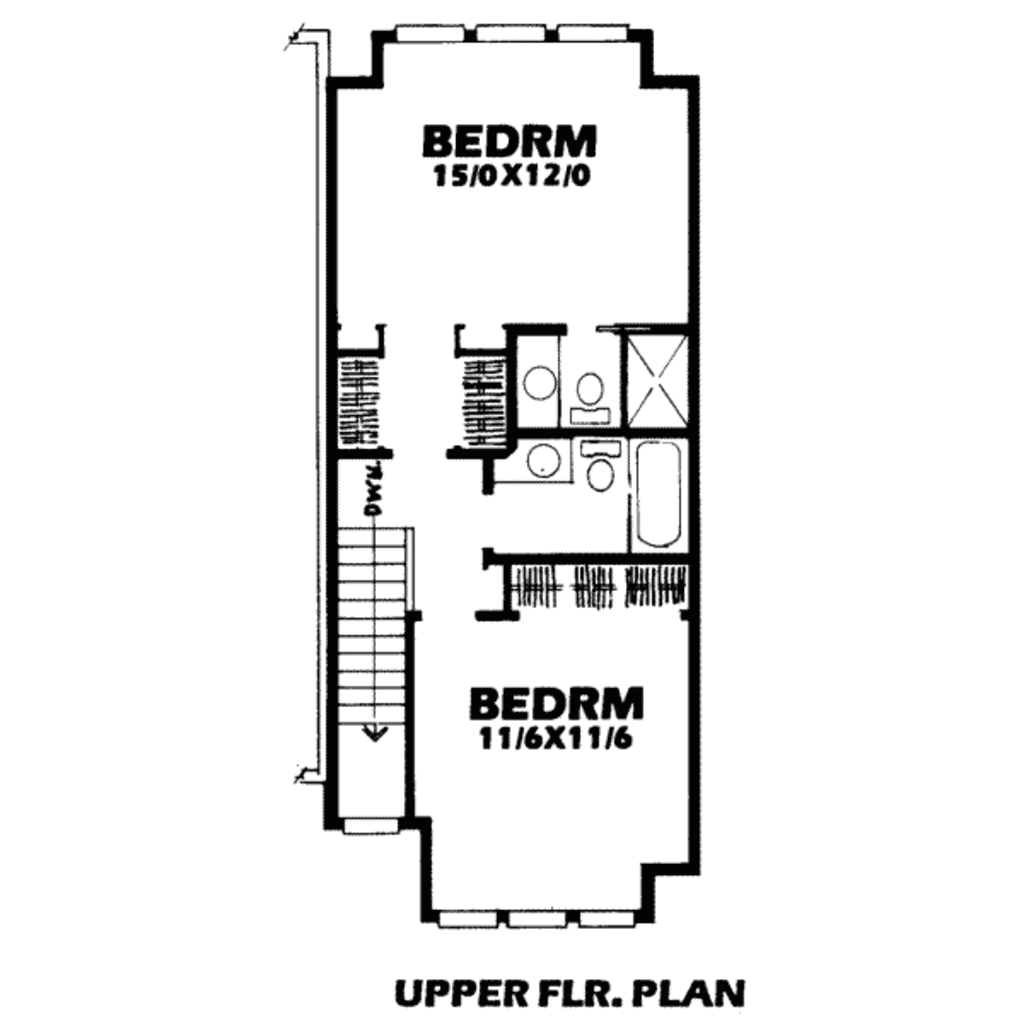large_sink: (566, 363, 617, 428), (578, 442, 619, 500)
small_sink: (517, 333, 559, 430)
stairs: (336, 522, 422, 750)
tub: (628, 438, 692, 553)
window: (555, 17, 636, 50), (481, 14, 548, 47), (398, 19, 470, 44), (509, 907, 566, 928), (439, 911, 498, 927), (580, 914, 631, 927)
